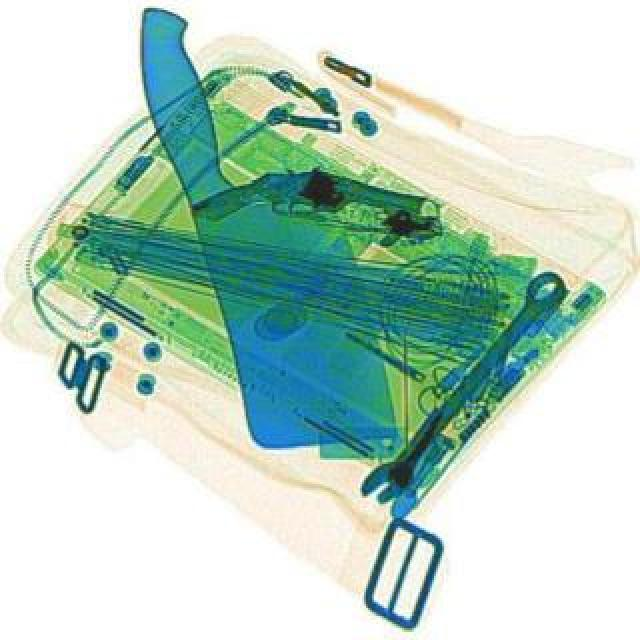gun: (192, 148, 424, 268)
knife: (144, 4, 394, 468)
scissors: (352, 270, 570, 518)
